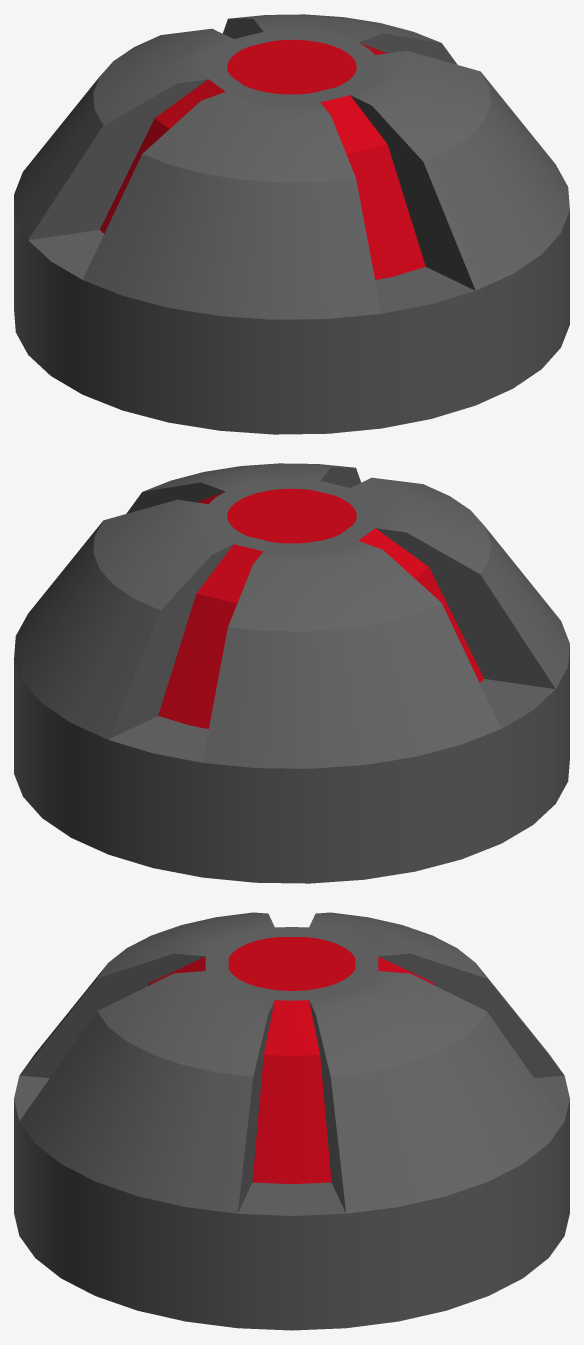
Rendered from EnemyBase_Mine.fbx.
The picture shows the model from 3 angles, top to bottom: view 1: azimuth 30°, elevation 25°; view 2: azimuth 150°, elevation 25°; view 3: azimuth 270°, elevation 25°; orthographic projection.
Parts seen in each view (by area): view 1: Mine; view 2: Mine; view 3: Mine.
Part boxes in pixels (x1,y1,x2,y2): Mine: (14,14,569,434); Mine: (14,463,569,883); Mine: (14,912,569,1330).
Bounding box in the file's own units: 76.34 × 37.79 × 76.34.
